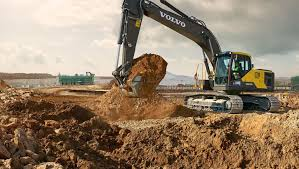excavator: (113, 1, 279, 119)
